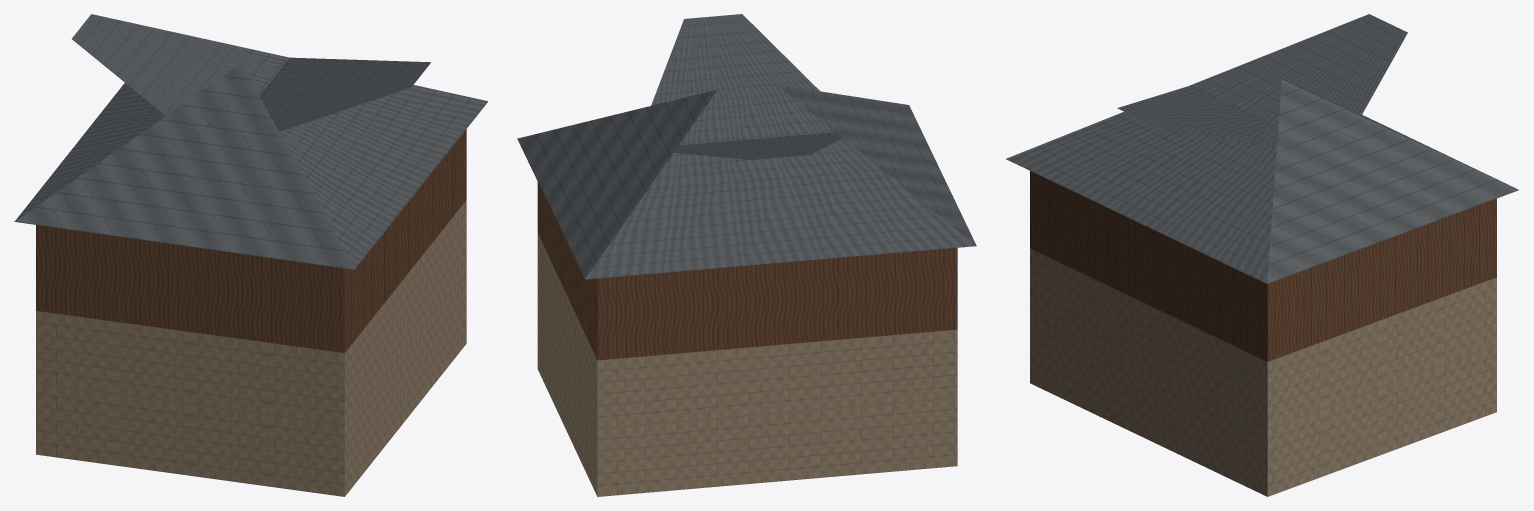
File: bld_c13_25_394.gltf
3 renders of one model, left to right at view 1: azimuth 30°, elevation 25°; view 2: azimuth 150°, elevation 25°; view 3: azimuth 270°, elevation 25°, orthographic. The views are drawn at different scales.
Parts seen in each view (by area): view 1: bld_c13_25_394; view 2: bld_c13_25_394; view 3: bld_c13_25_394.
Boxes of the visible parts, <box> form: bld_c13_25_394: <box>14,14,487,496</box>; bld_c13_25_394: <box>517,14,976,496</box>; bld_c13_25_394: <box>1006,14,1518,496</box>.
Bounding box in the file's own units: 16.27 × 11.3 × 16.11.
3 materials, 3 textured.
